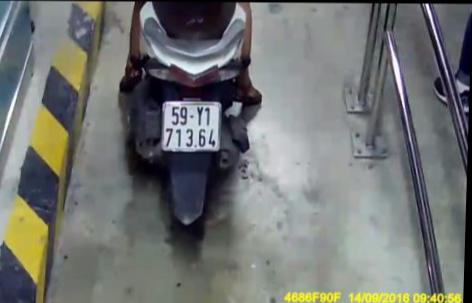LP: (159, 97, 225, 155)
